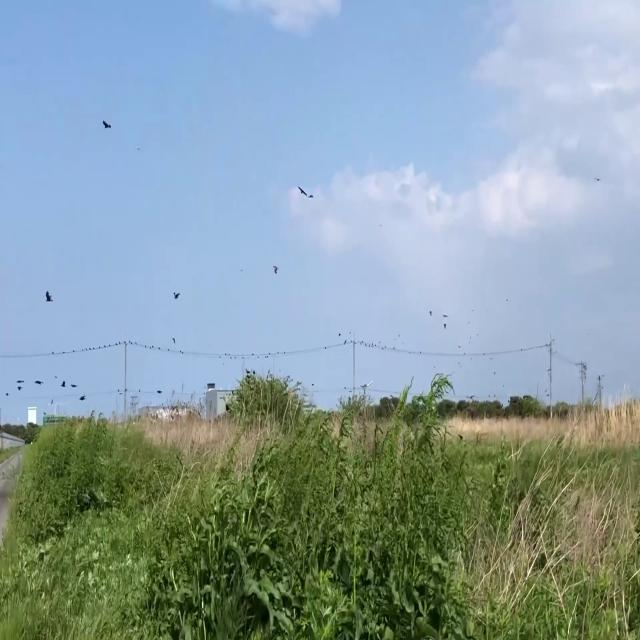bird: (298, 181, 312, 204), (102, 114, 111, 135), (173, 285, 180, 303), (45, 286, 51, 306), (34, 373, 42, 388), (443, 312, 448, 325), (61, 377, 66, 388)
